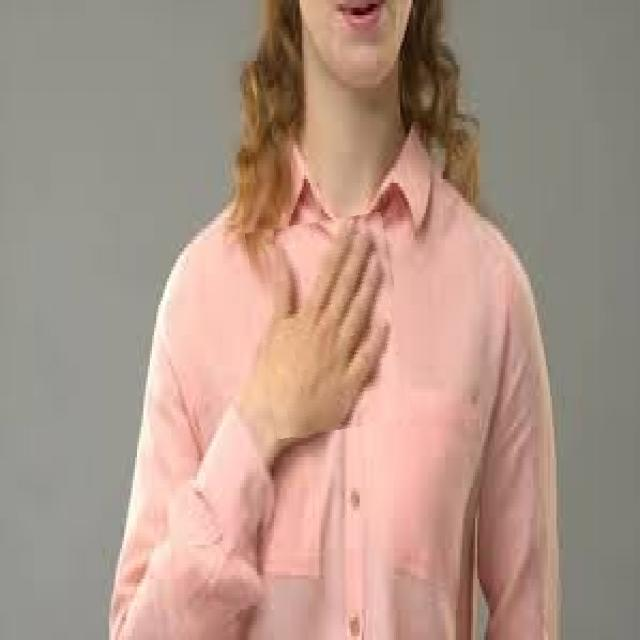Please: (252, 216, 406, 435)
